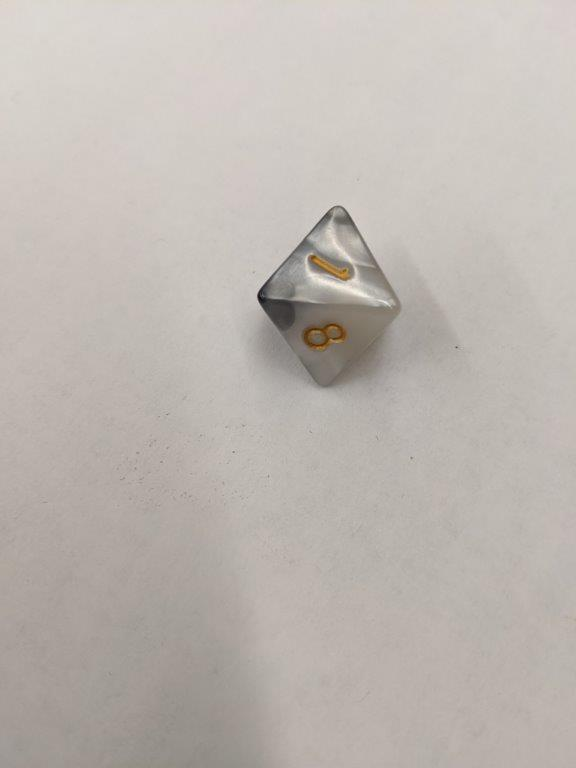d8-1: (257, 204, 401, 389)
